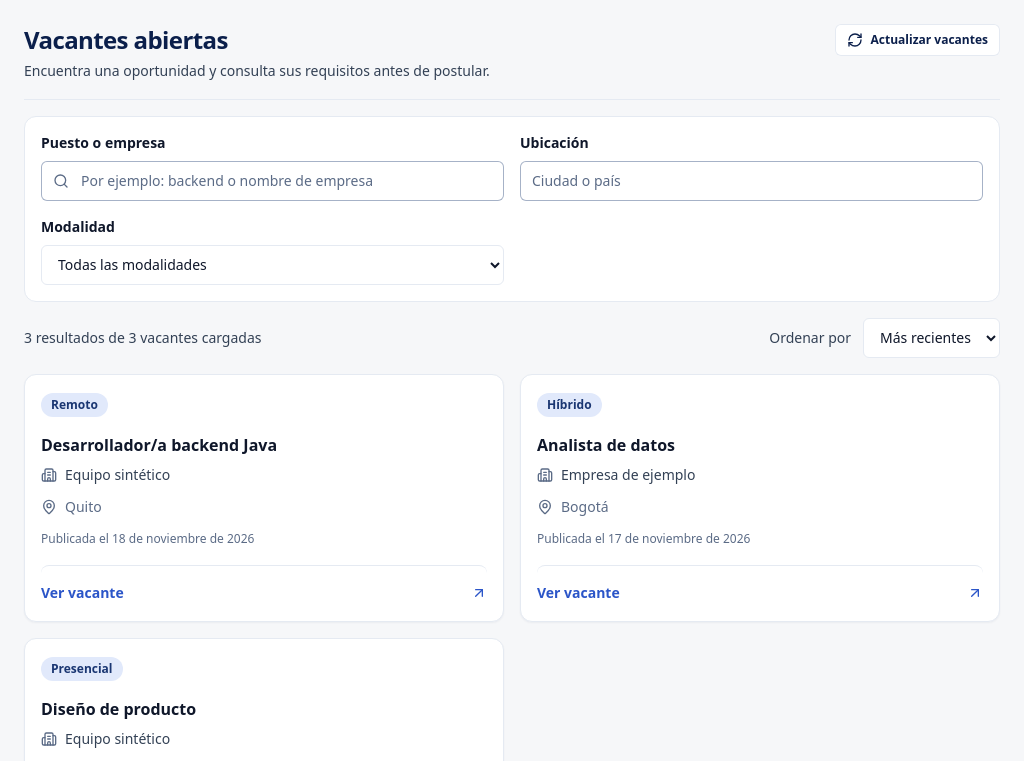
Scenario: explorador de vacantes › combina búsqueda sin acentos, ubicación y modalidad sin pedir datos otra vez
Type "sintetico" into the search field labelled "Puesto o empresa".
click(272, 181); type("sintetico")  # box x1=41 y1=161 x2=504 y2=201
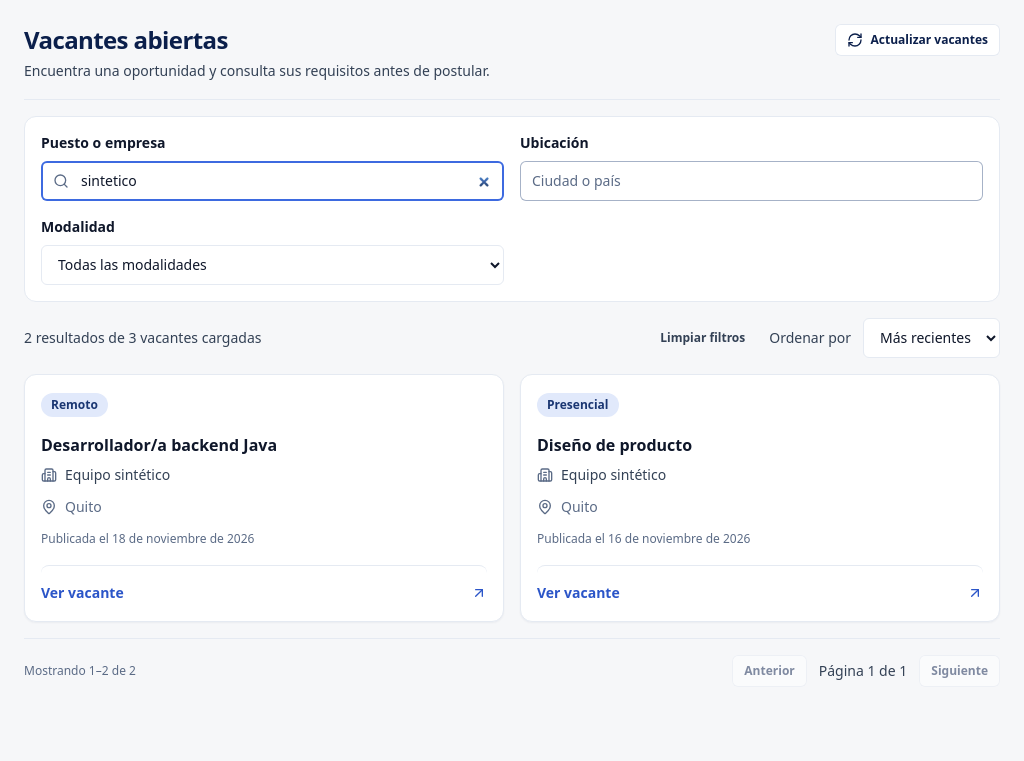
expect the text "2 resultados de 3 vacantes cargadas" is shown: met, box x1=24 y1=328 x2=262 y2=348
Type "quito" into the search field labelled "Ubicación".
click(752, 181); type("quito")  # box x1=520 y1=161 x2=983 y2=201
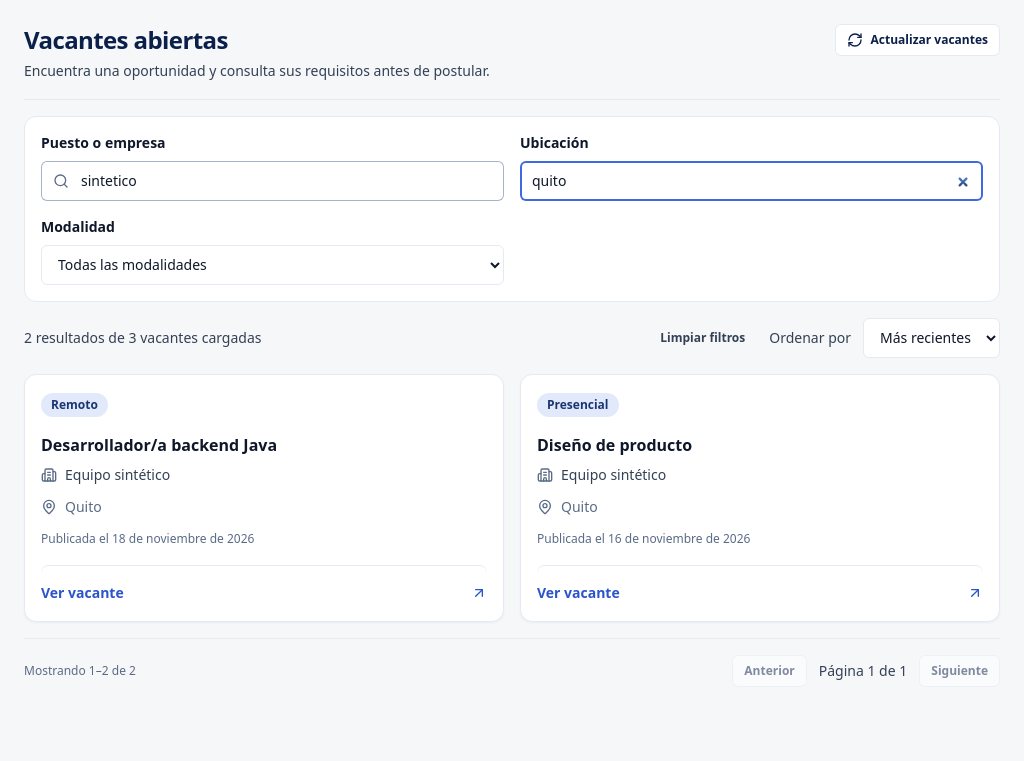
Select "Remoto" in the dropdown labelled "Modalidad" at (272, 265), box x1=41 y1=245 x2=504 y2=285
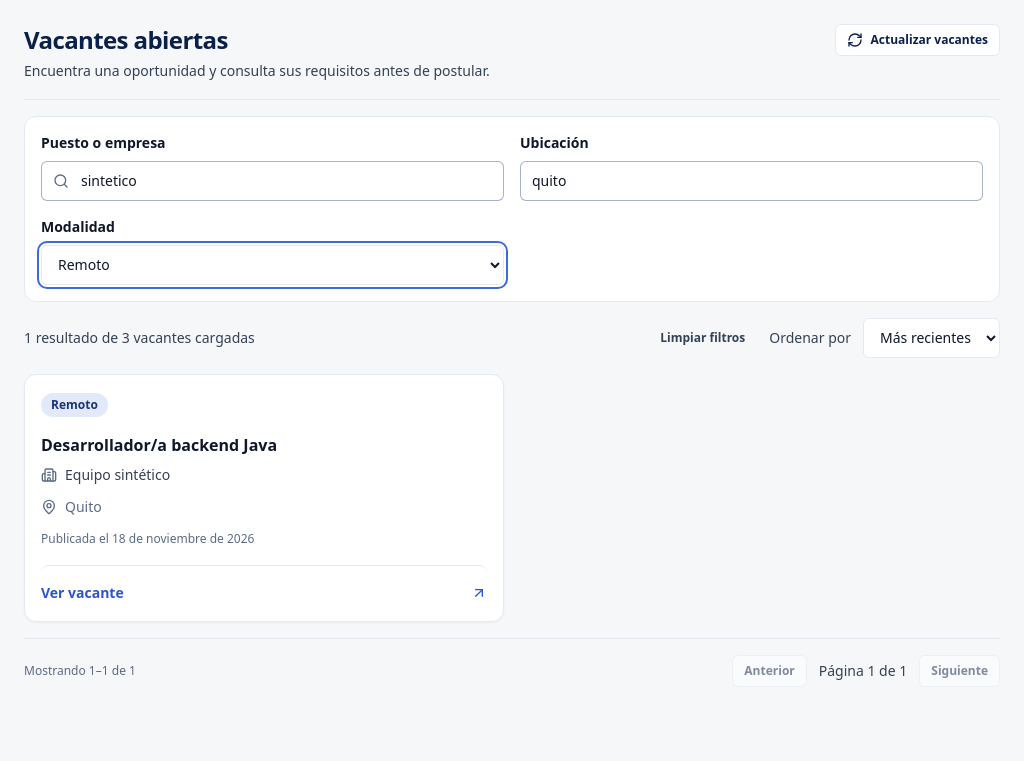
expect the heading "Desarrollador/a backend Java" is shown: met, box x1=41 y1=434 x2=277 y2=456
expect the text "1 resultado de 3 vacantes cargadas" is shown: met, box x1=24 y1=328 x2=255 y2=348
expect the heading "Diseño de producto" is gone: met
